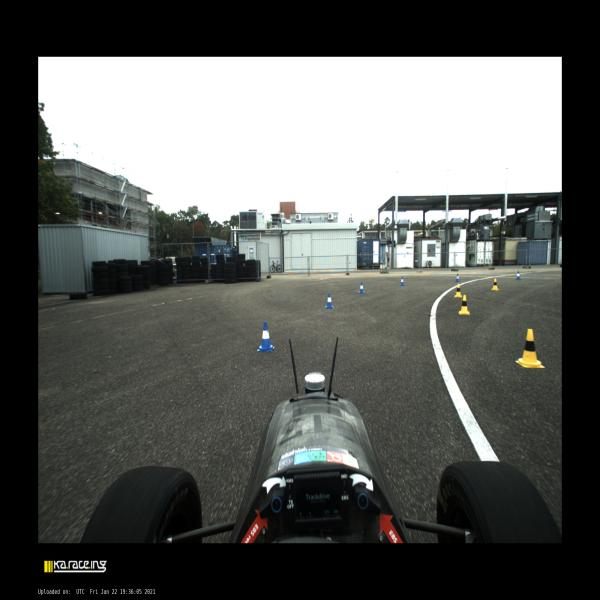blue_cone: (258, 322, 275, 353), (324, 293, 334, 310), (399, 276, 406, 287), (359, 282, 365, 294), (455, 273, 460, 282), (516, 271, 521, 280)
yellow_cone: (515, 328, 545, 370), (458, 295, 470, 315), (491, 278, 499, 292), (454, 284, 462, 298)
